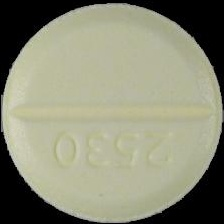66336-980: (0, 0, 224, 224)
